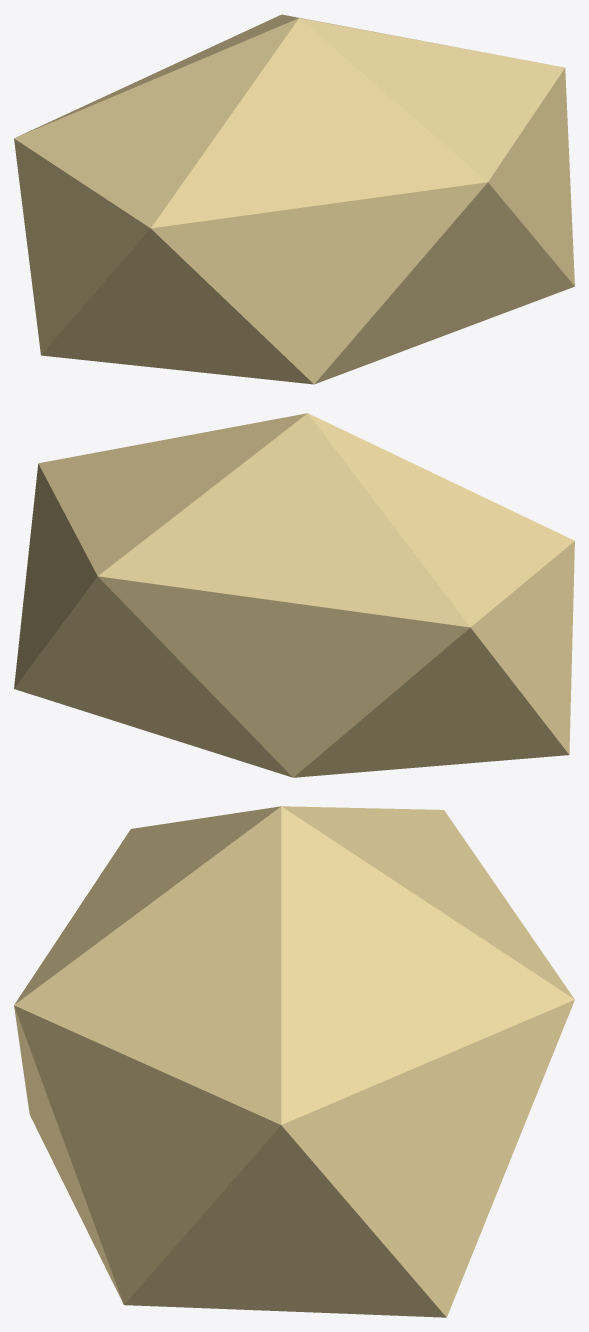
File: item_067_millet_s.glb
3 views of the same model, one above another, from view 1: azimuth 30°, elevation 25°; view 2: azimuth 150°, elevation 25°; view 3: azimuth 270°, elevation 25° (orthographic). The views are drawn at different scales.
Visible parts, largest first — view 1: item_067_millet_s; view 2: item_067_millet_s; view 3: item_067_millet_s.
Part boxes in pixels (x1,y1,x2,y2): item_067_millet_s: (14, 14, 574, 384); item_067_millet_s: (14, 413, 574, 777); item_067_millet_s: (14, 806, 574, 1317).
Size of the model in its own units: 0.3028 by 0.198 by 0.215.
